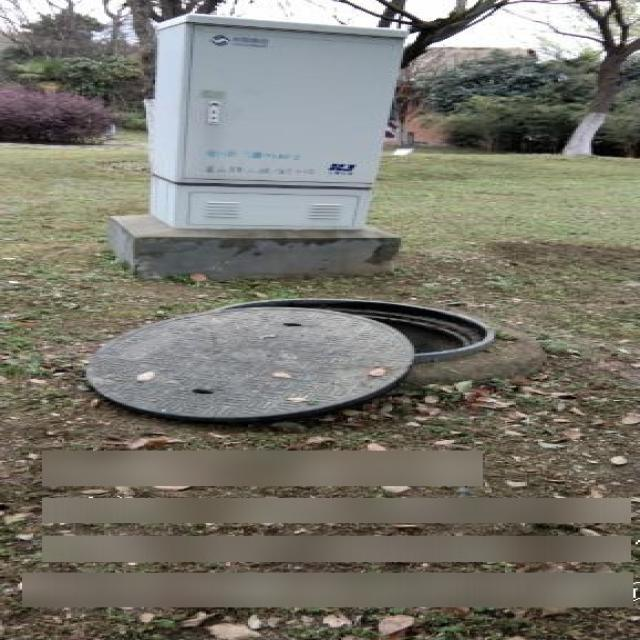Lose: (84, 296, 496, 417)
